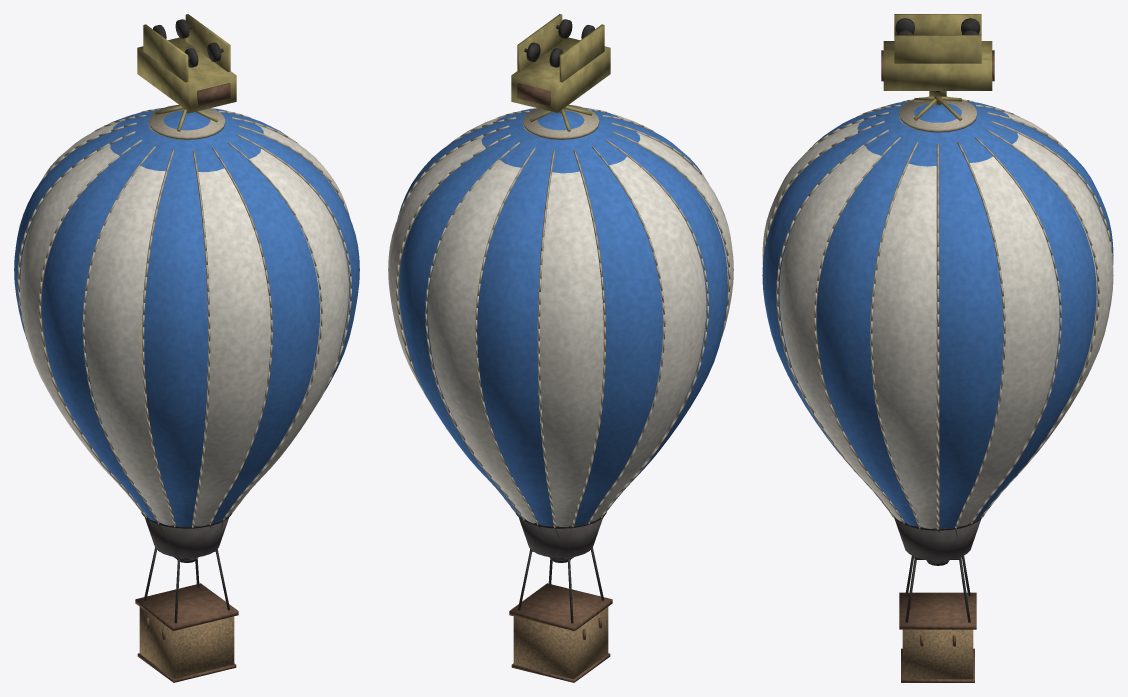
The model's file is BalloonRail_Blue.fbx.
3 views of the same model, side by side, from view 1: azimuth 30°, elevation 25°; view 2: azimuth 150°, elevation 25°; view 3: azimuth 270°, elevation 25° (orthographic). The views are drawn at different scales.
Visible parts, largest first — view 1: Swing_S_Envelope_Blue, Swing_S_EnvelopeStripe_Blue, Swing_S_Rope, Static_S_Bogie, Swing_S_Wicker, Swing_S_Leather, Swing_S_SkirtDark, Swing_S_SteelWorn, Static_S_SteelWorn, Static_S_Leather; view 2: Swing_S_Envelope_Blue, Swing_S_EnvelopeStripe_Blue, Swing_S_Rope, Static_S_Bogie, Swing_S_Wicker, Swing_S_Leather, Swing_S_SkirtDark, Swing_S_SteelWorn, Static_S_SteelWorn, Static_S_Leather; view 3: Swing_S_Envelope_Blue, Swing_S_EnvelopeStripe_Blue, Swing_S_Rope, Static_S_Bogie, Swing_S_Wicker, Swing_S_Leather, Swing_S_SkirtDark, Swing_S_SteelWorn, Static_S_SteelWorn.
Part boxes in pixels (box(x1,y1,x2,y2)): Swing_S_Envelope_Blue: box(14, 108, 359, 527); Swing_S_EnvelopeStripe_Blue: box(20, 111, 350, 526); Swing_S_Rope: box(17, 104, 351, 527); Static_S_Bogie: box(137, 14, 236, 112); Swing_S_Wicker: box(139, 607, 234, 678); Swing_S_Leather: box(135, 583, 238, 682); Swing_S_SkirtDark: box(145, 518, 228, 557); Swing_S_SteelWorn: box(141, 512, 231, 623); Static_S_SteelWorn: box(153, 19, 223, 67); Static_S_Leather: box(197, 83, 230, 105); Swing_S_Envelope_Blue: box(397, 108, 727, 526); Swing_S_EnvelopeStripe_Blue: box(388, 113, 733, 527); Swing_S_Rope: box(396, 104, 730, 527); Static_S_Bogie: box(511, 14, 610, 112); Swing_S_Wicker: box(513, 607, 608, 678); Swing_S_Leather: box(509, 583, 612, 682); Swing_S_SkirtDark: box(519, 518, 602, 557); Swing_S_SteelWorn: box(516, 512, 606, 623); Static_S_SteelWorn: box(524, 19, 594, 67); Static_S_Leather: box(517, 83, 550, 105); Swing_S_Envelope_Blue: box(762, 101, 1113, 528); Swing_S_EnvelopeStripe_Blue: box(762, 103, 1113, 528); Swing_S_Rope: box(763, 96, 1112, 529); Static_S_Bogie: box(883, 14, 992, 96); Swing_S_Wicker: box(902, 629, 973, 679); Swing_S_Leather: box(899, 592, 976, 682); Swing_S_SkirtDark: box(894, 519, 981, 560); Swing_S_SteelWorn: box(891, 515, 984, 622); Static_S_SteelWorn: box(895, 18, 980, 92).
Size of the model in its own units: 6.45 by 13.03 by 6.45.
